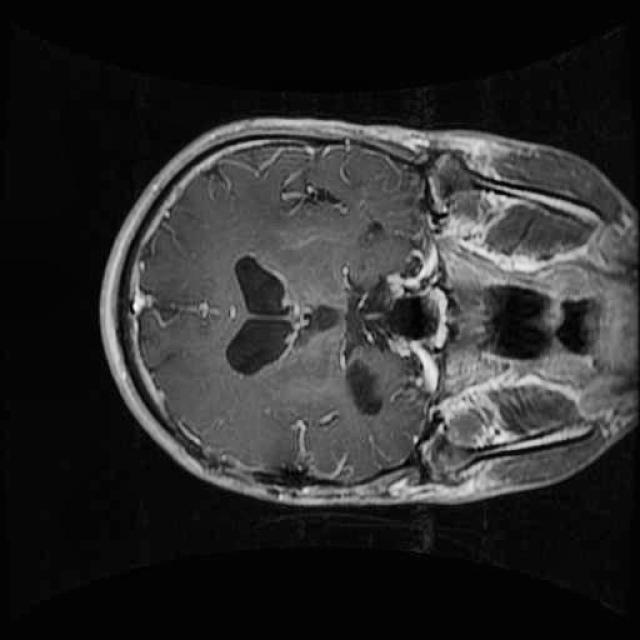Tumor: (334, 350, 394, 430)
